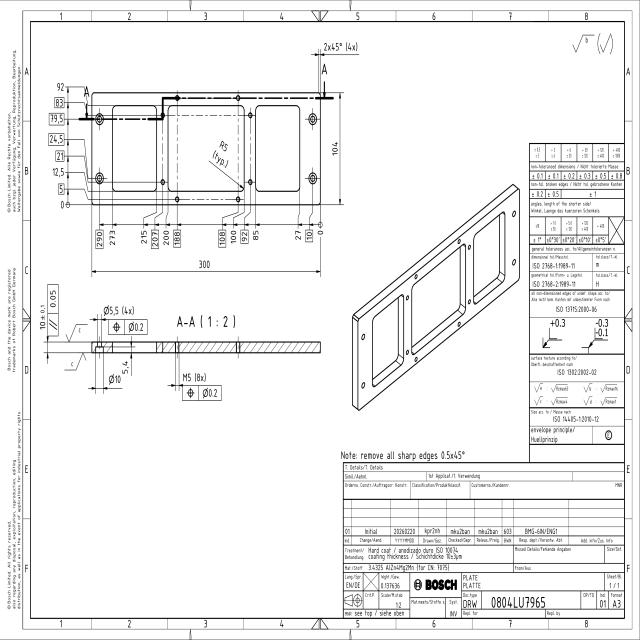dimension: (210, 136, 230, 171), (322, 40, 360, 52), (102, 304, 136, 316), (181, 372, 207, 384), (48, 132, 64, 146), (49, 112, 64, 126), (39, 302, 46, 330), (95, 229, 104, 249), (151, 229, 159, 250), (197, 258, 211, 270), (107, 373, 121, 385), (240, 230, 249, 248), (218, 229, 227, 247), (51, 167, 65, 178), (173, 229, 181, 248), (331, 140, 339, 158), (162, 229, 170, 247), (140, 229, 148, 246), (108, 229, 115, 247), (56, 80, 66, 92), (54, 96, 64, 108), (55, 150, 65, 162), (305, 229, 314, 242), (294, 229, 302, 241), (122, 360, 128, 375), (252, 229, 259, 241), (230, 229, 237, 241), (58, 182, 64, 195), (60, 200, 65, 210), (317, 228, 323, 236)
